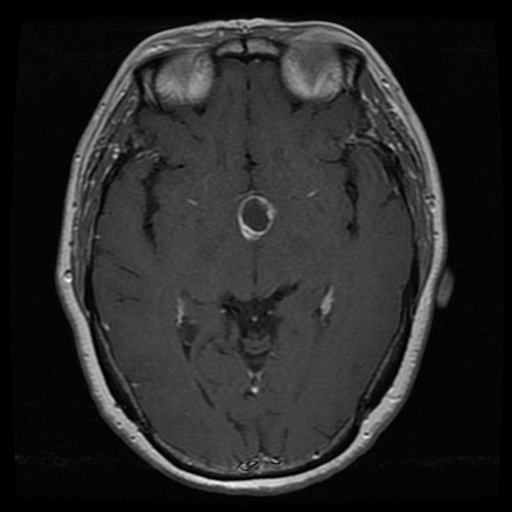pituitary: (237, 190, 279, 240)
